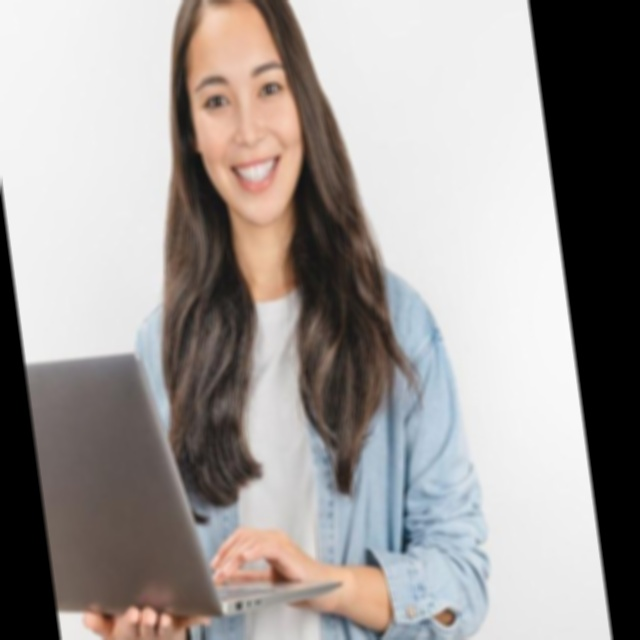Sin_Casco_Mascarrilla: (154, 0, 328, 227)
Sin_Chaleco: (126, 227, 487, 640)
